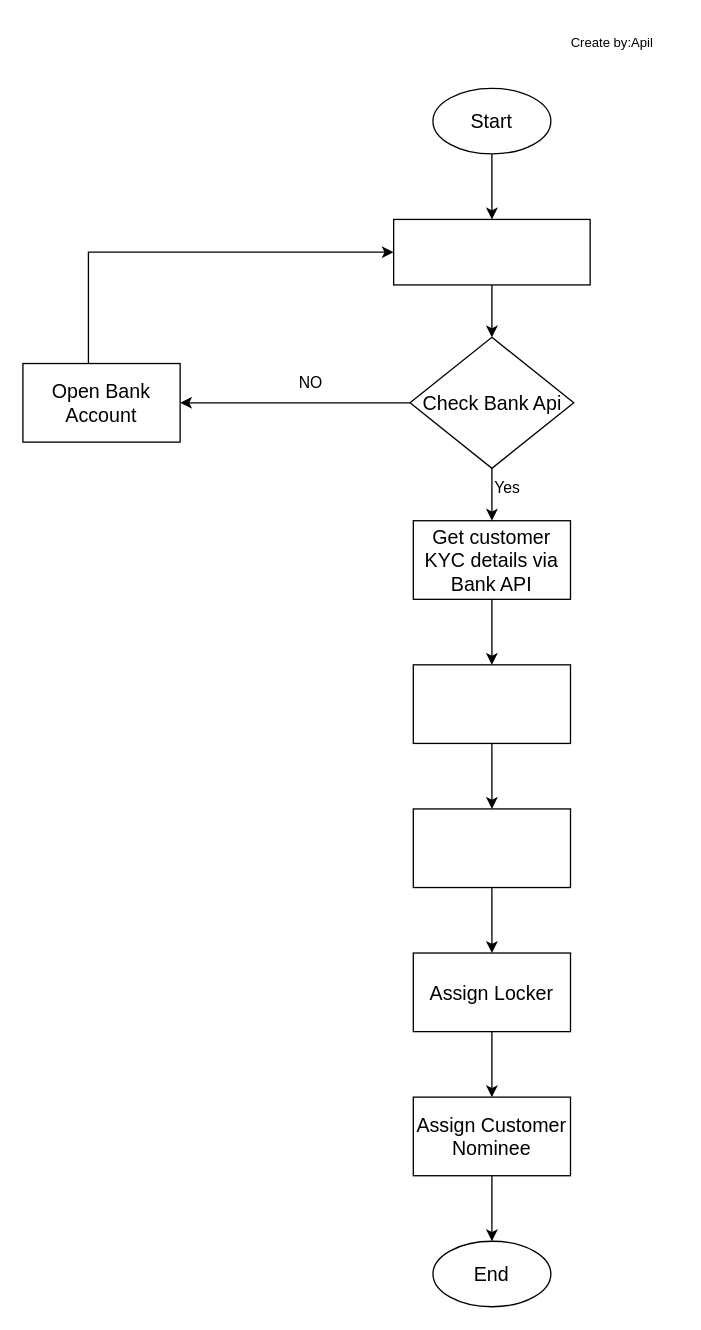
Image size: 701x1330. Some labels were removed from this diagram. The centre of each missing label's shape, as x and y in pixels:
"Enter Account Number" goes at [491,251].
"Take Finger Data" goes at [491,703].
"User Credential" goes at [491,848].
